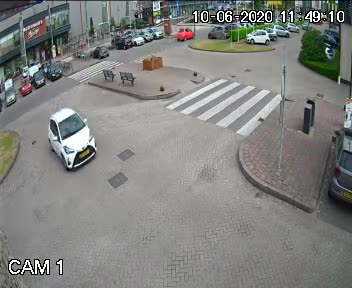car: (44, 103, 101, 168), (175, 27, 197, 41)
